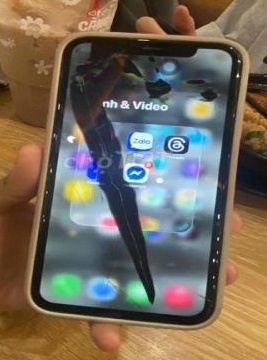physical_damage: (24, 37, 215, 315)
screen_defect: (41, 40, 226, 318)
